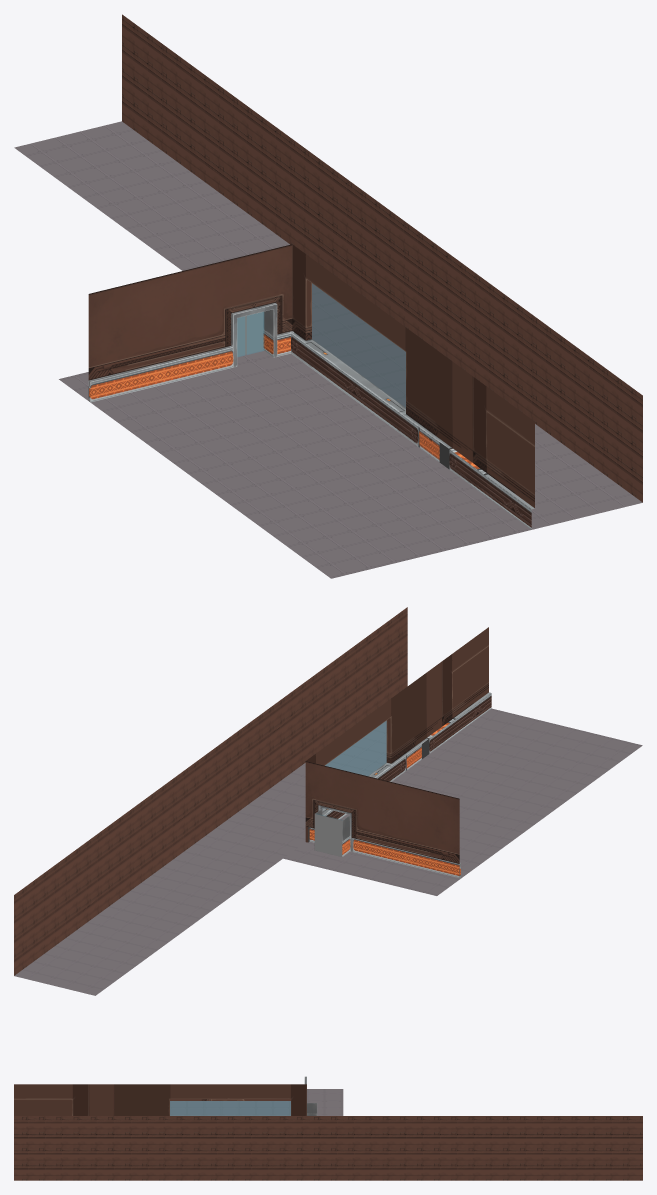
The model's file is amazoncafe_chao_e_paredes.gltf.
3 views of the same model, one above another, from view 1: azimuth 30°, elevation 25°; view 2: azimuth 150°, elevation 25°; view 3: azimuth 270°, elevation 25° (orthographic). The views are drawn at different scales.
Parts seen in each view (by area): view 1: png de fora, estrutura_interna, chao_externo, parede norte, parede oeste, parede oeste.002, parede norte.002, parede oeste.001, parede norte.001; view 2: png de fora, chao_externo, estrutura_interna, parede norte, parede oeste, parede norte.002, parede oeste.002, parede oeste.001; view 3: png de fora, parede oeste, estrutura_interna, parede oeste.001.
Part boxes in pixels (box(x1,y1,x2,y2)): png de fora: box(122, 14, 642, 502); estrutura_interna: box(59, 350, 534, 578); chao_externo: box(14, 121, 642, 528); parede norte: box(88, 244, 292, 380); parede oeste: box(292, 244, 534, 507); parede oeste.002: box(289, 331, 534, 529); parede norte.002: box(88, 302, 293, 402); parede oeste.001: box(312, 283, 405, 407); parede norte.001: box(237, 312, 263, 356); png de fora: box(14, 607, 407, 975); chao_externo: box(14, 721, 386, 995); estrutura_interna: box(283, 708, 642, 895); parede norte: box(305, 761, 459, 863); parede oeste: box(305, 627, 488, 842); parede norte.002: box(309, 805, 460, 879); parede oeste.002: box(308, 692, 491, 842); parede oeste.001: box(323, 721, 386, 808); png de fora: box(14, 1116, 642, 1180); parede oeste: box(14, 1084, 306, 1115); estrutura_interna: box(170, 1089, 343, 1115); parede oeste.001: box(170, 1101, 290, 1115).
Bounding box in the file's own units: 25.13 × 8.26 × 72.76.
5 materials, 4 textured.
